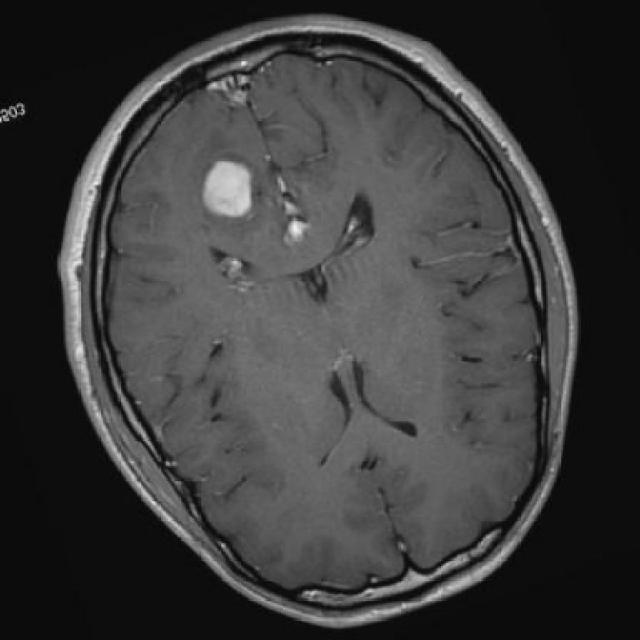Brain-Tumor: (196, 148, 262, 226)
